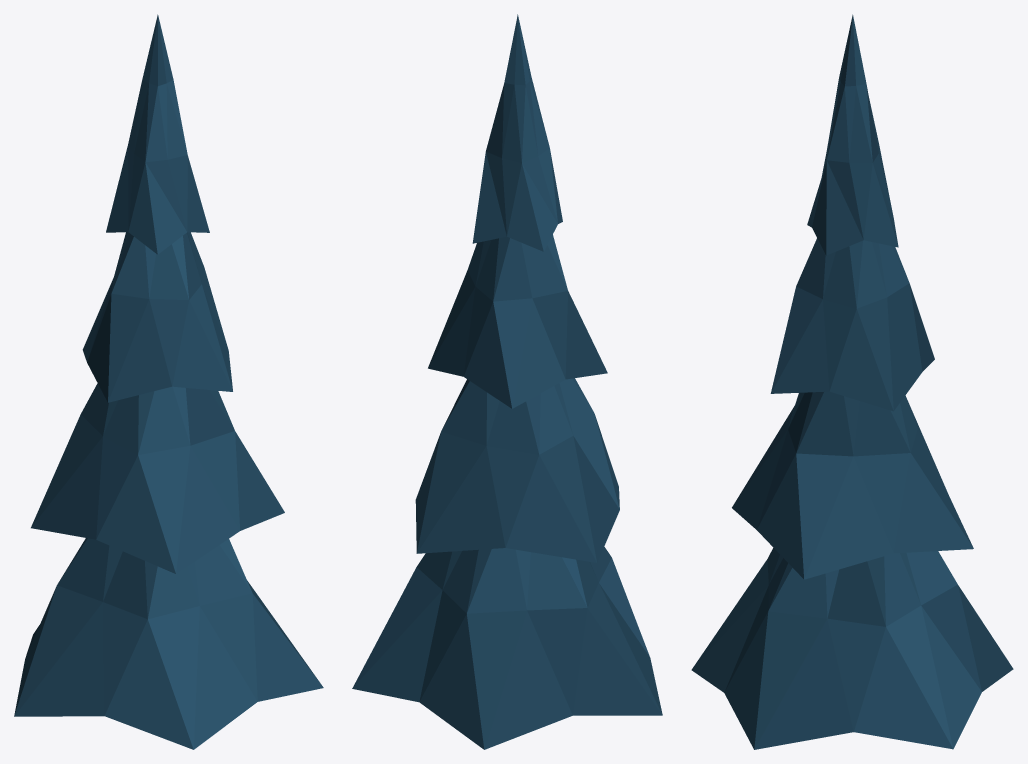
The model's file is Leaves_B.glb.
3 views of the same model, side by side, from view 1: azimuth 30°, elevation 25°; view 2: azimuth 150°, elevation 25°; view 3: azimuth 270°, elevation 25° (orthographic).
Parts seen in each view (by area): view 1: Leaves; view 2: Leaves; view 3: Leaves.
Part boxes in pixels (bbox=[...]): Leaves: bbox=[14, 14, 323, 749]; Leaves: bbox=[352, 14, 662, 749]; Leaves: bbox=[691, 14, 1013, 749].
Size of the model in its own units: 14.51 by 35.31 by 15.22.
